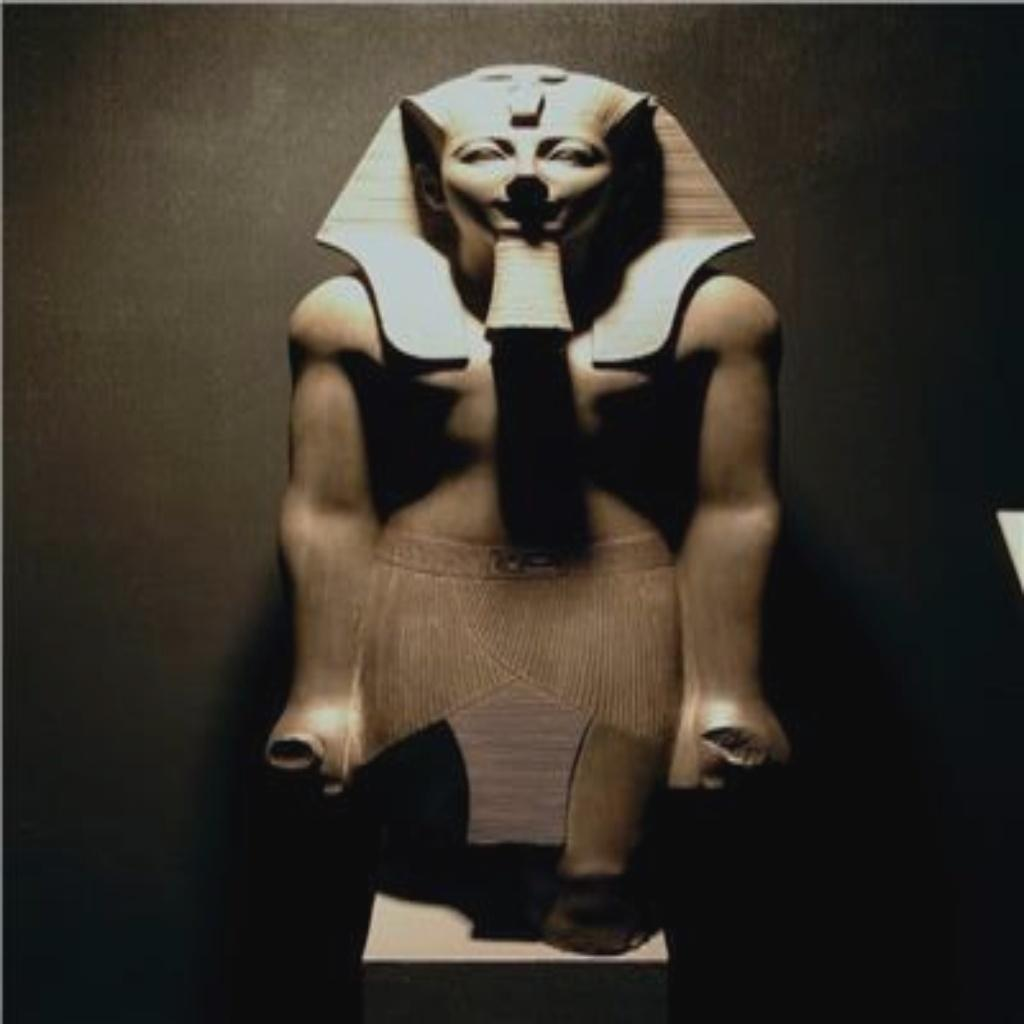King Thutmose III: (272, 58, 786, 1021)
